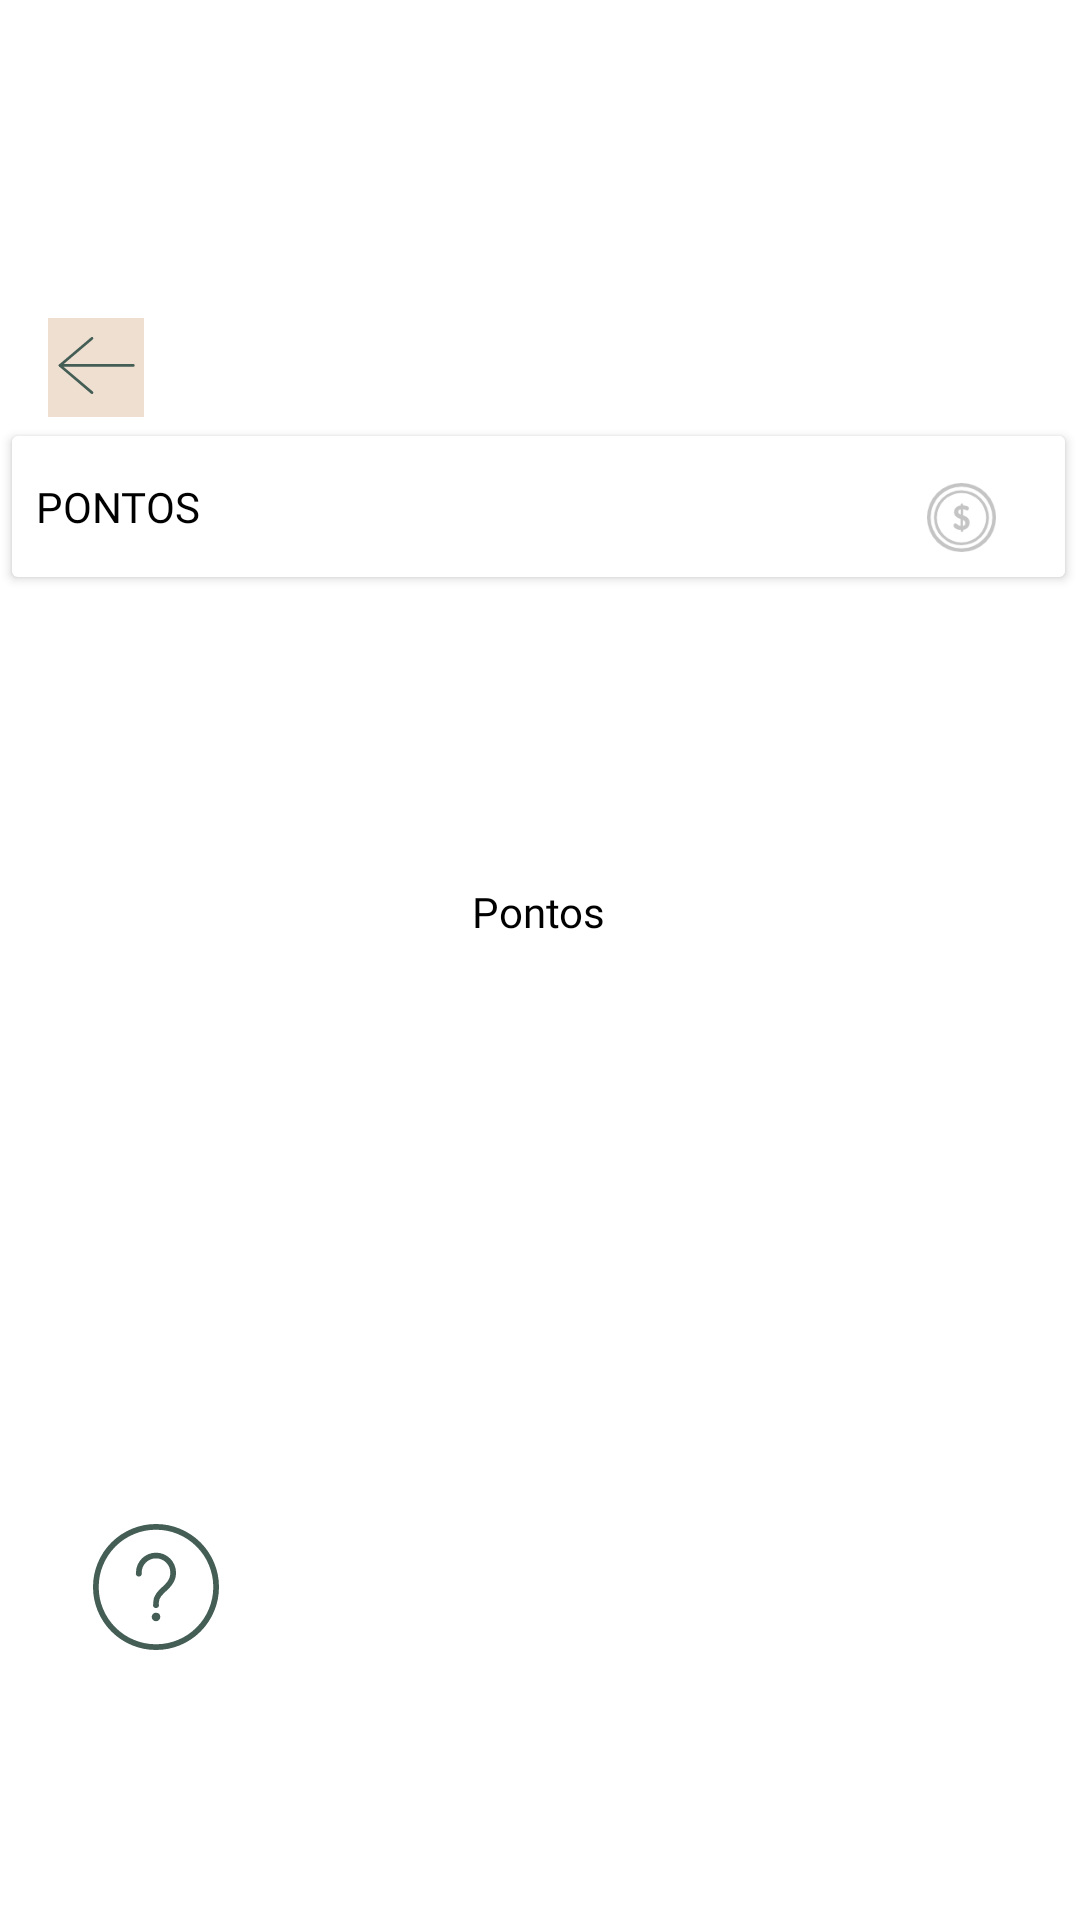

Icons on this 1080x1920 Android screen, each with its box as {"left": x1, "top": y1, "right": x2, "bottom": y2}:
coins: {"left": 927, "top": 483, "right": 996, "bottom": 552}
info: {"left": 93, "top": 1524, "right": 219, "bottom": 1650}
seta: {"left": 48, "top": 318, "right": 144, "bottom": 417}
